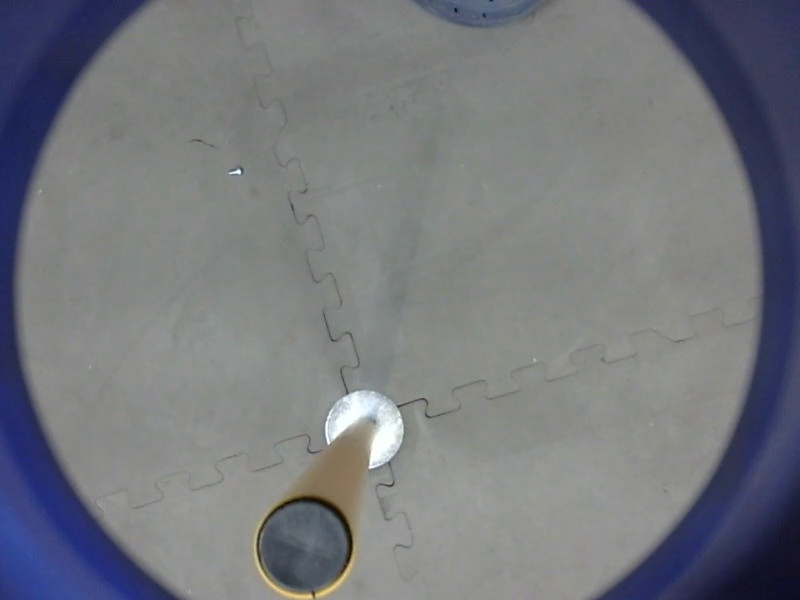tip: (249, 491, 360, 600)
